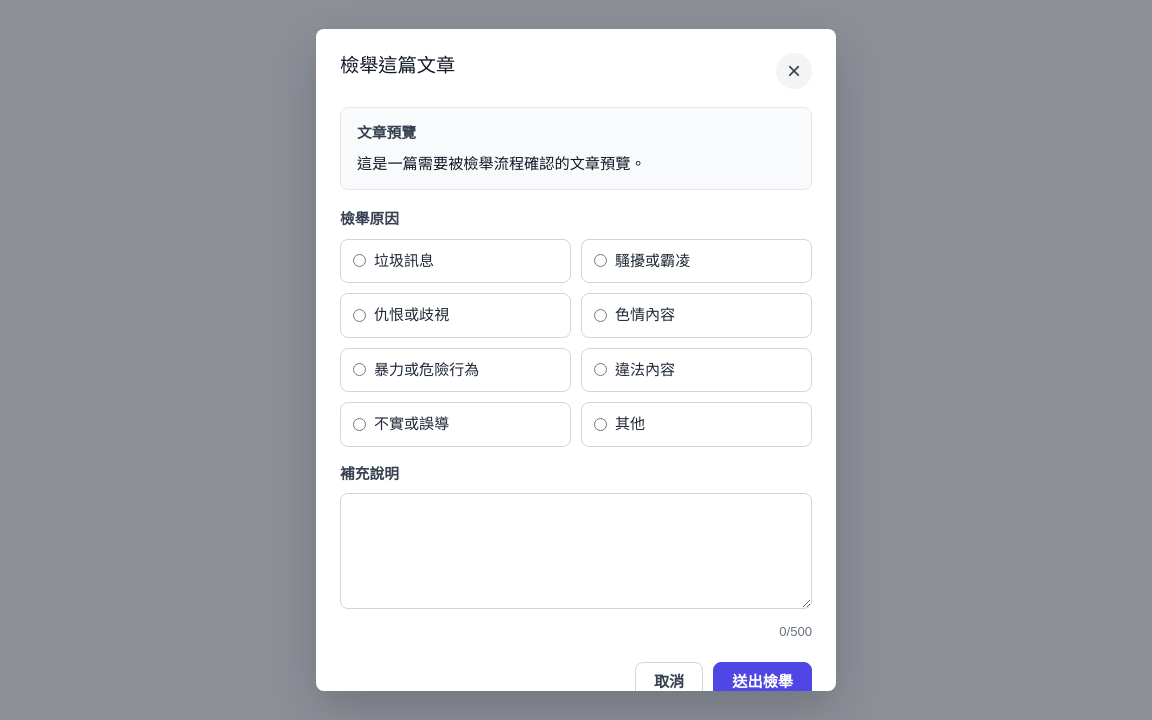
ReportDialog › shows validation messages for missing reason and other details
This screenshot has width=1152, height=720.
Click the button "送出檢舉".
click(763, 682)  # box left=713, top=662, right=812, bottom=704
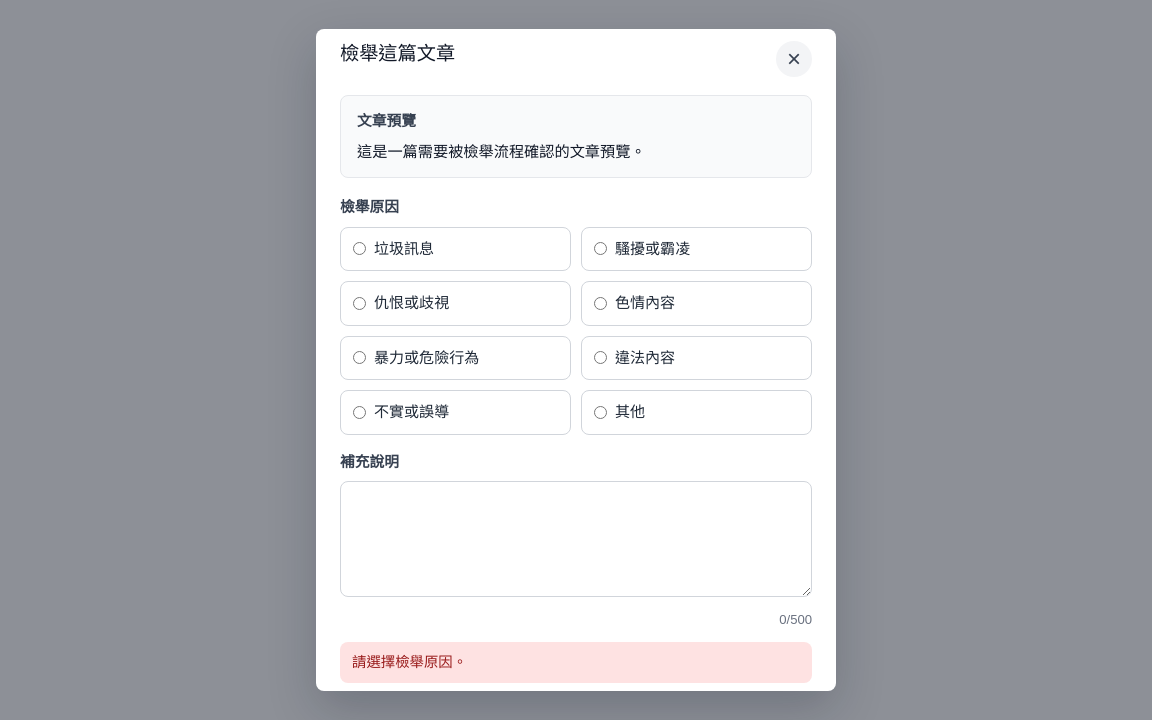
Now the message reads "請選擇檢舉原因。", box left=352, top=654, right=467, bottom=670
Click the radio button labelled "其他".
click(600, 412)  # box left=594, top=406, right=607, bottom=419
(page scrolled)
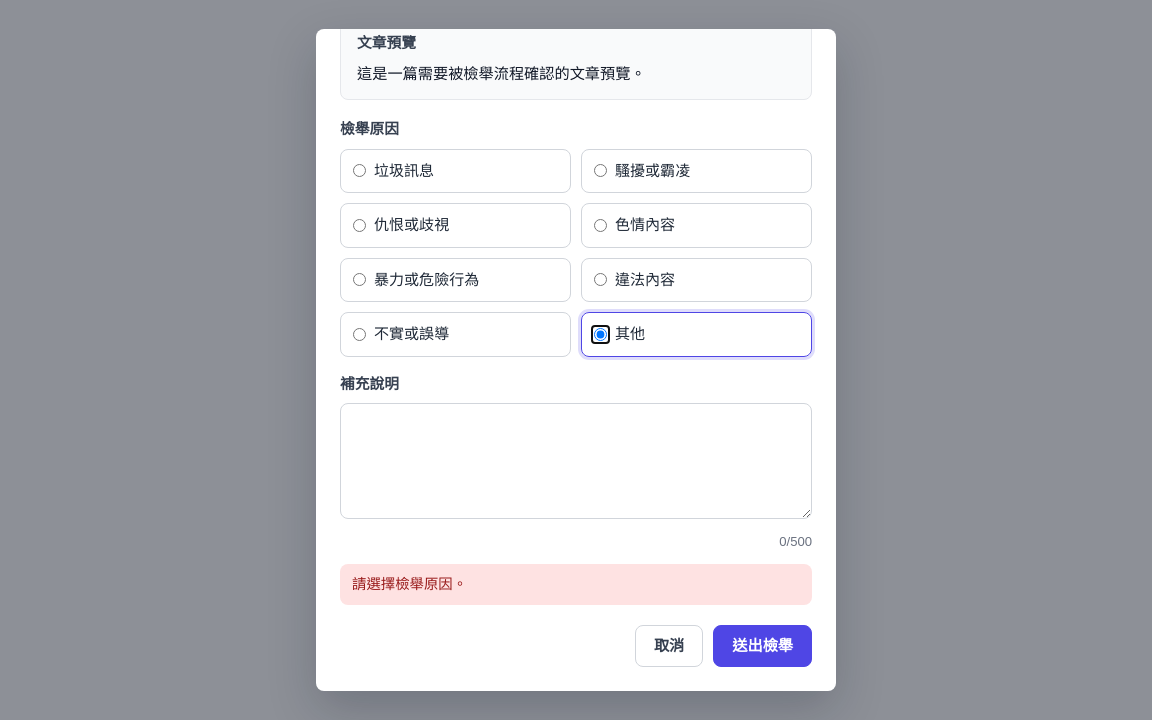
Click the button "送出檢舉".
click(763, 646)  # box left=713, top=625, right=812, bottom=667
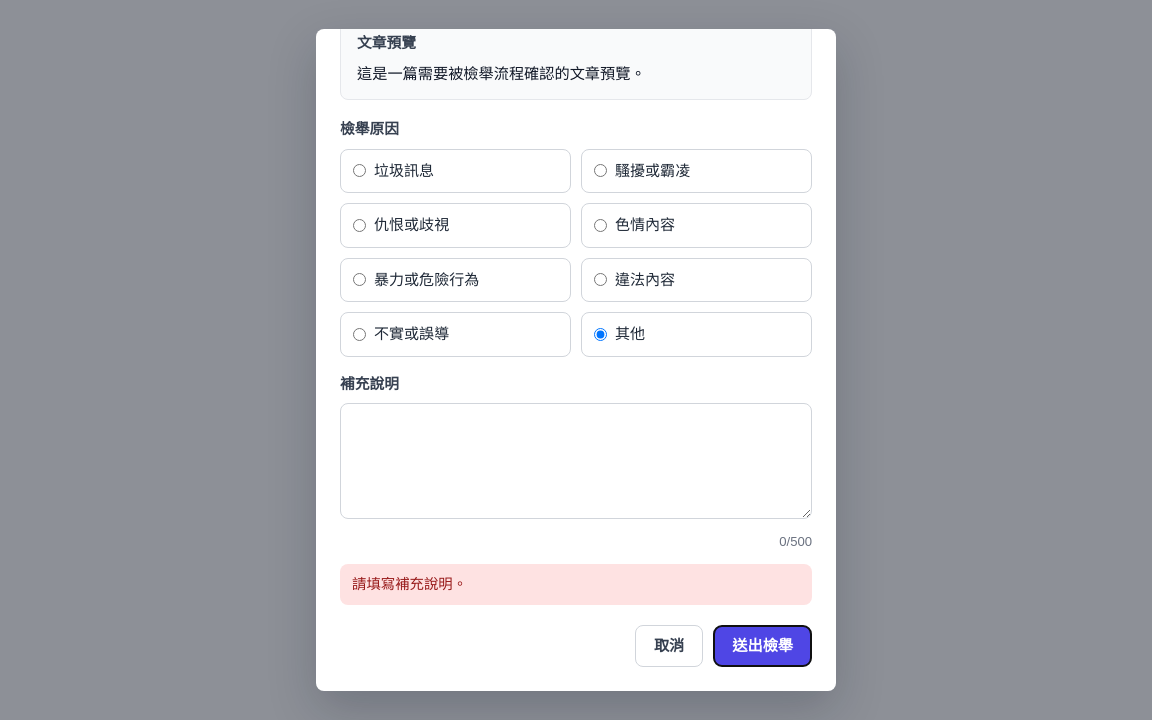
Now the message reads "請填寫補充說明。", box left=352, top=576, right=467, bottom=592
